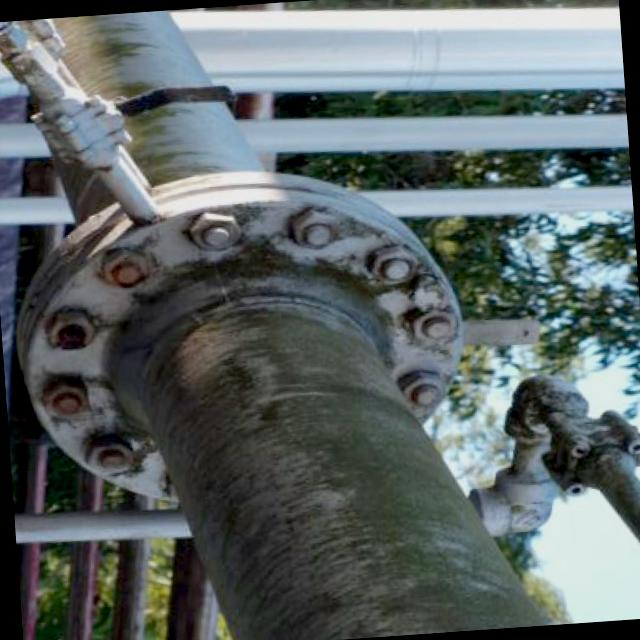gas: (21, 10, 544, 640)
